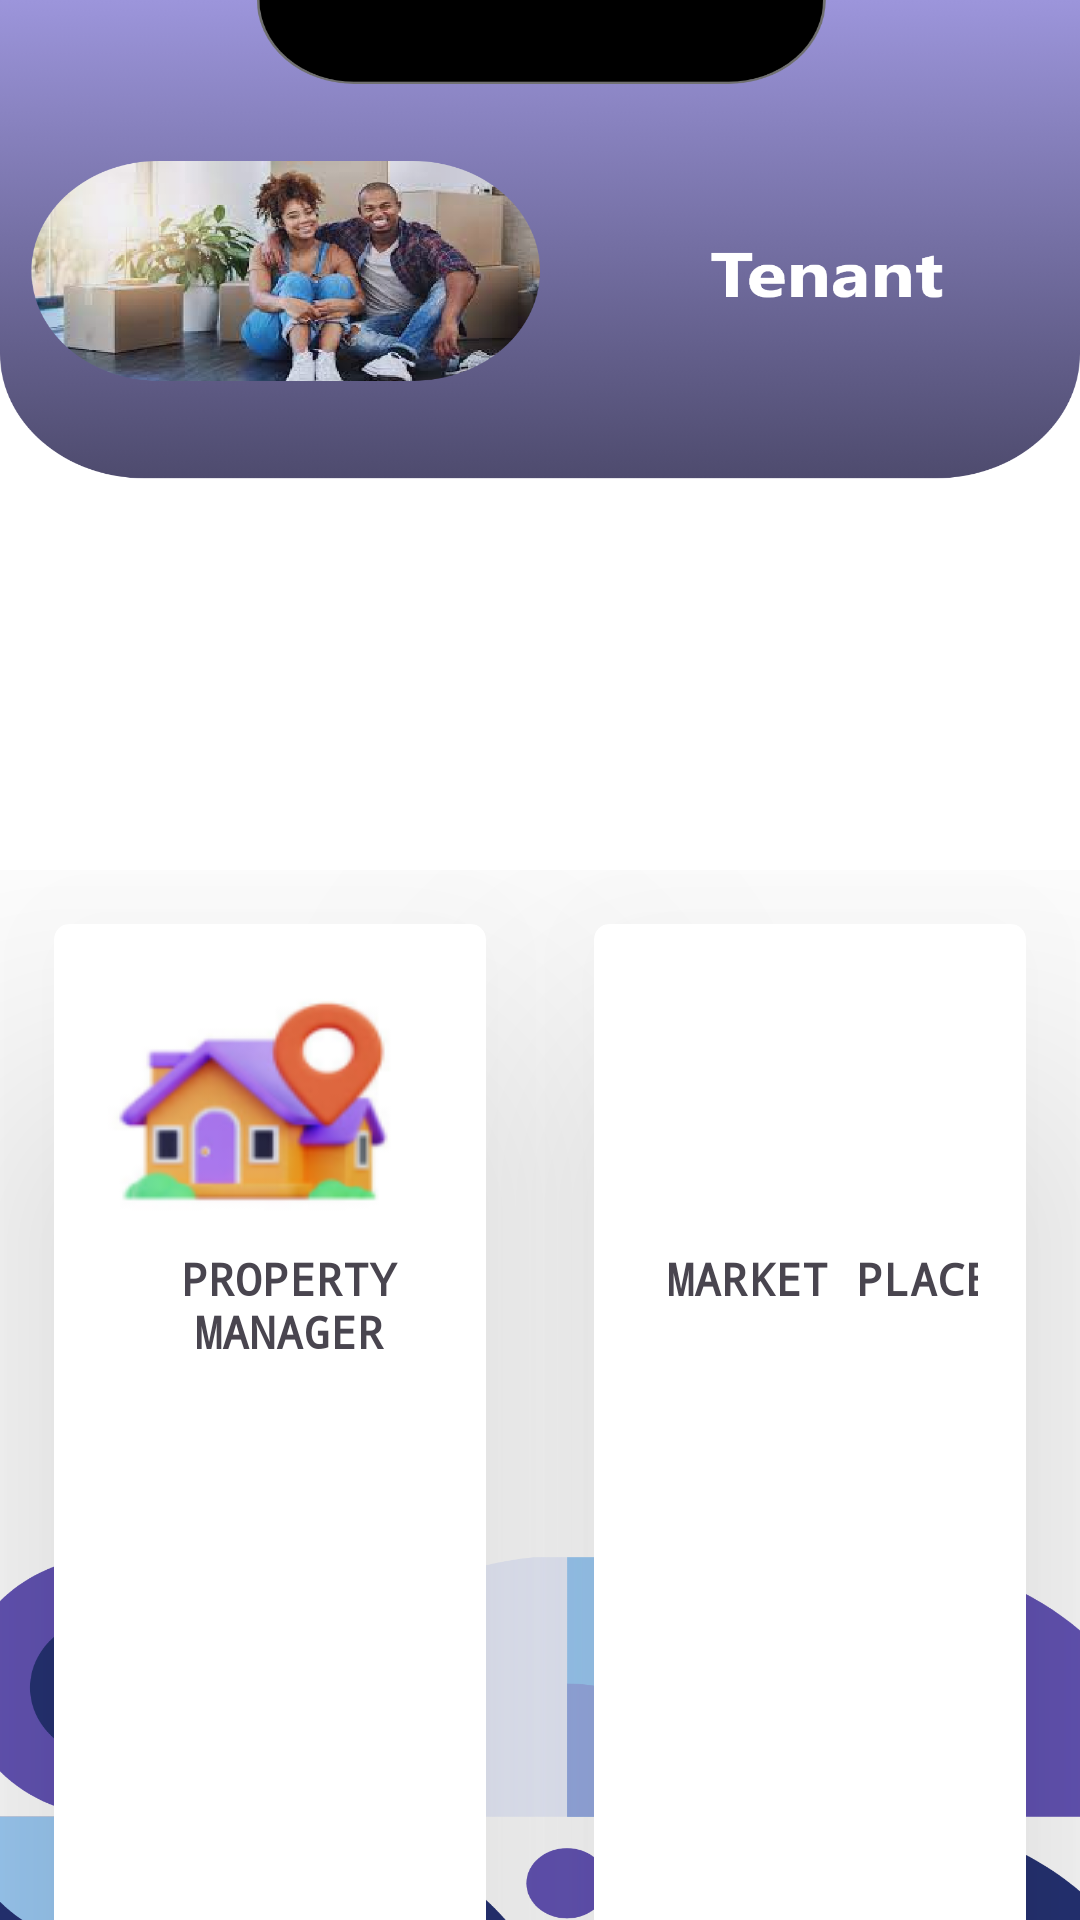

Icon click points for this 1080x1920 phone screenshot, format (x,y):
viewproperties: (253,1101)
